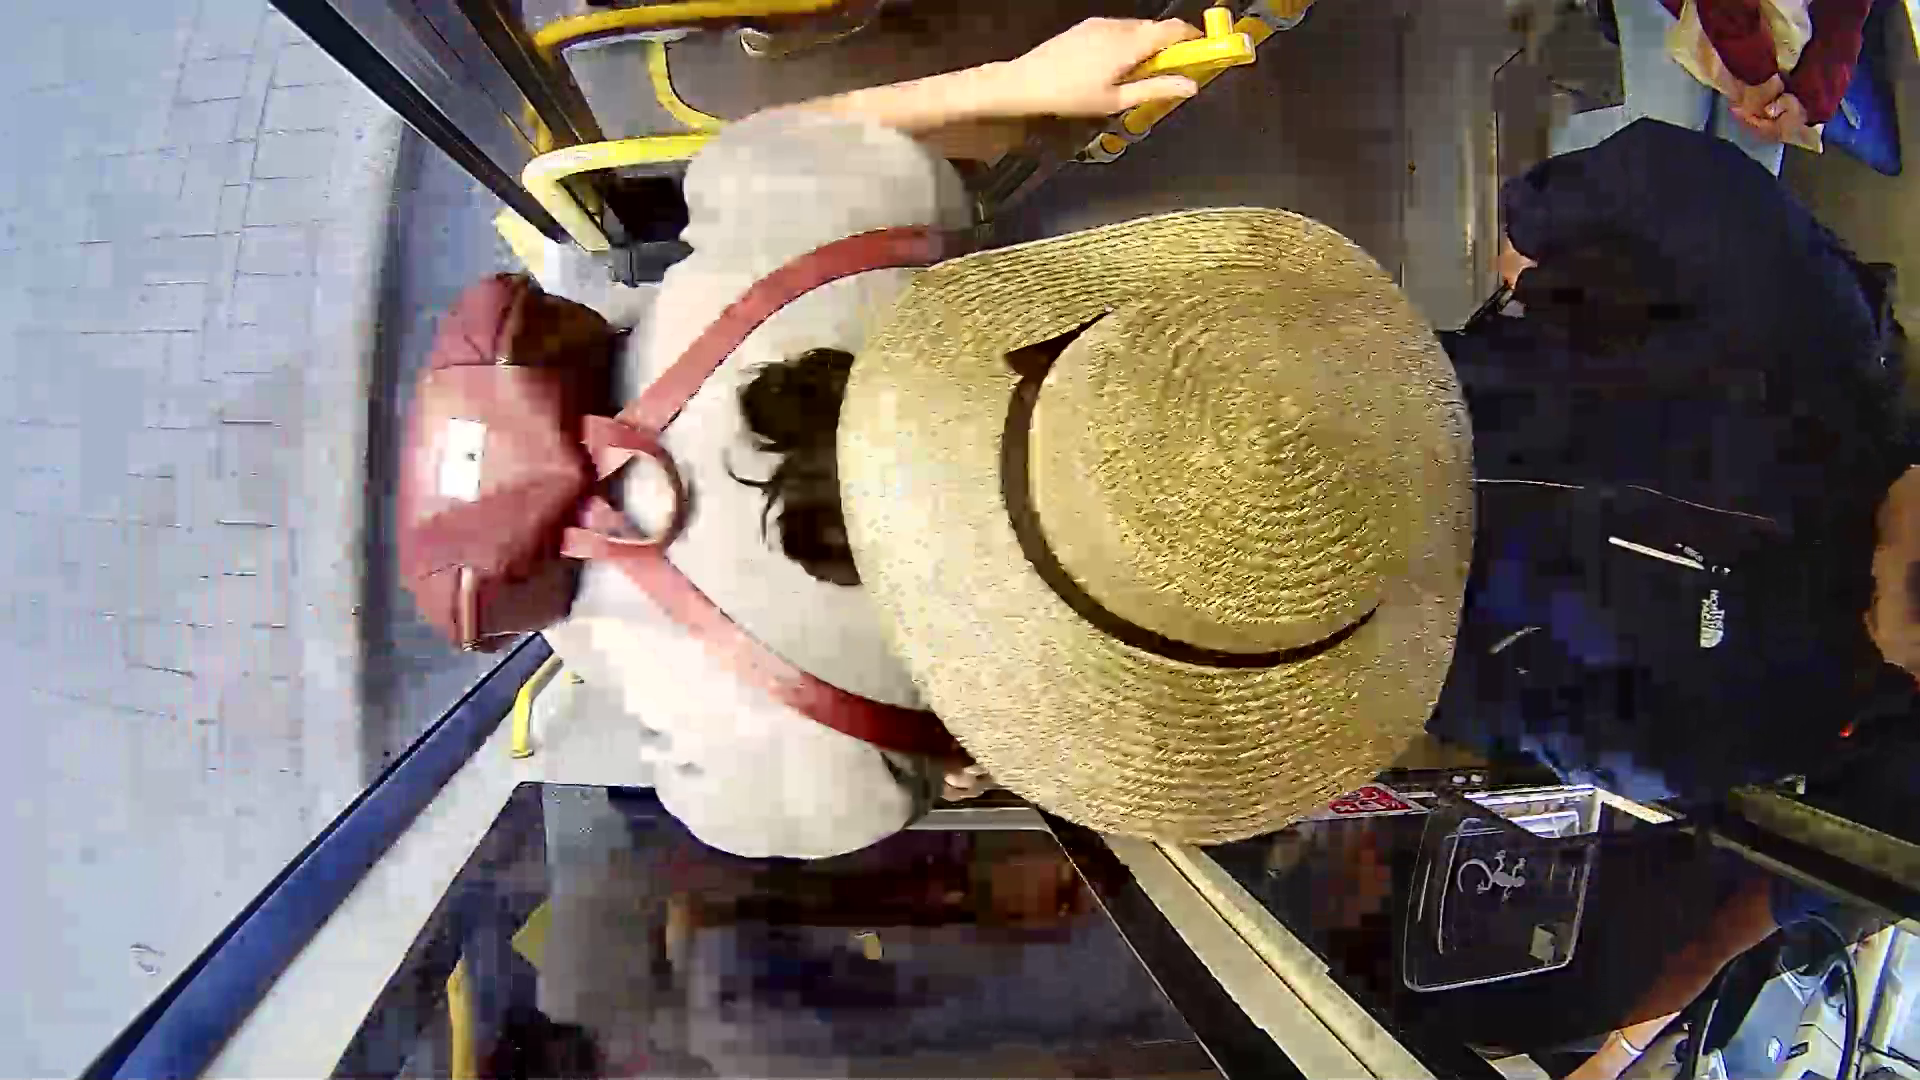person: (407, 159, 1492, 910)
